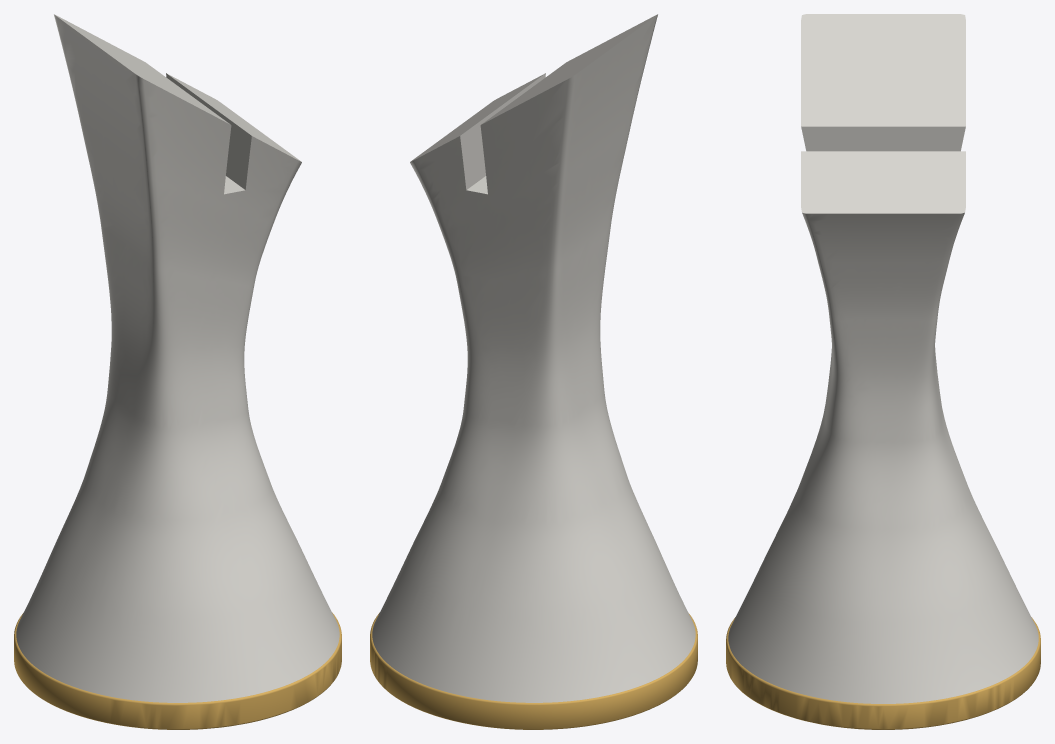
The model's file is bishop-white-hd.glb.
3 views of the same model, side by side, from view 1: azimuth 30°, elevation 25°; view 2: azimuth 150°, elevation 25°; view 3: azimuth 270°, elevation 25° (orthographic). The views are drawn at different scales.
Parts seen in each view (by area): view 1: 04_strelec_telo_0, 04_strelec_podstavec; view 2: 04_strelec_telo_0, 04_strelec_podstavec; view 3: 04_strelec_telo_0, 04_strelec_podstavec.
Boxes of the visible parts, x1=… form: 04_strelec_telo_0: x1=16, y1=14, x2=339, y2=702; 04_strelec_podstavec: x1=14, y1=612, x2=341, y2=729; 04_strelec_telo_0: x1=372, y1=14, x2=695, y2=702; 04_strelec_podstavec: x1=370, y1=612, x2=697, y2=729; 04_strelec_telo_0: x1=728, y1=14, x2=1038, y2=703; 04_strelec_podstavec: x1=726, y1=617, x2=1040, y2=729.
Bounding box in the file's own units: 0.6903 × 1.48 × 0.6905.
